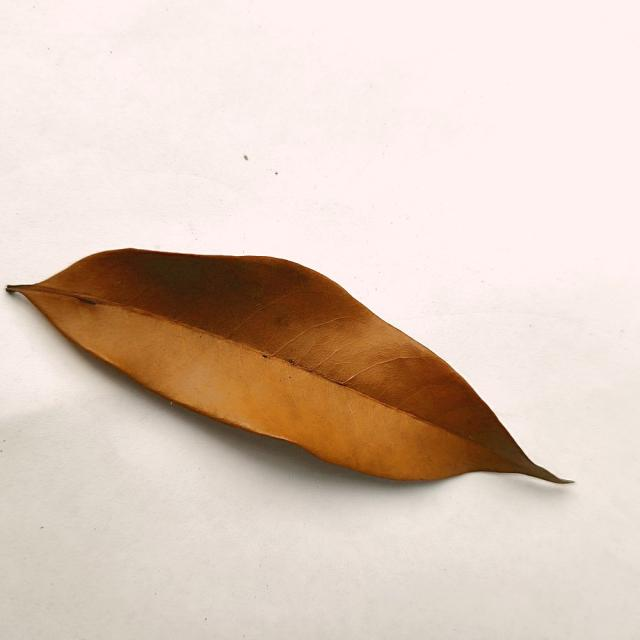Dry_Leaf-Lychee: (8, 249, 575, 488)
